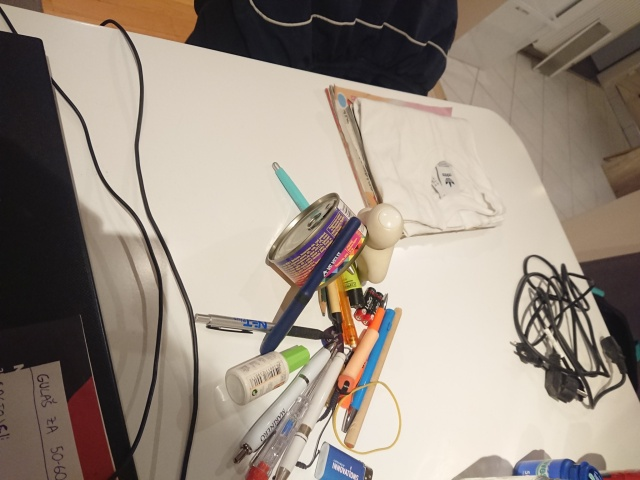Giana Tuna Salad Mexico 185g: (265, 190, 371, 294)
